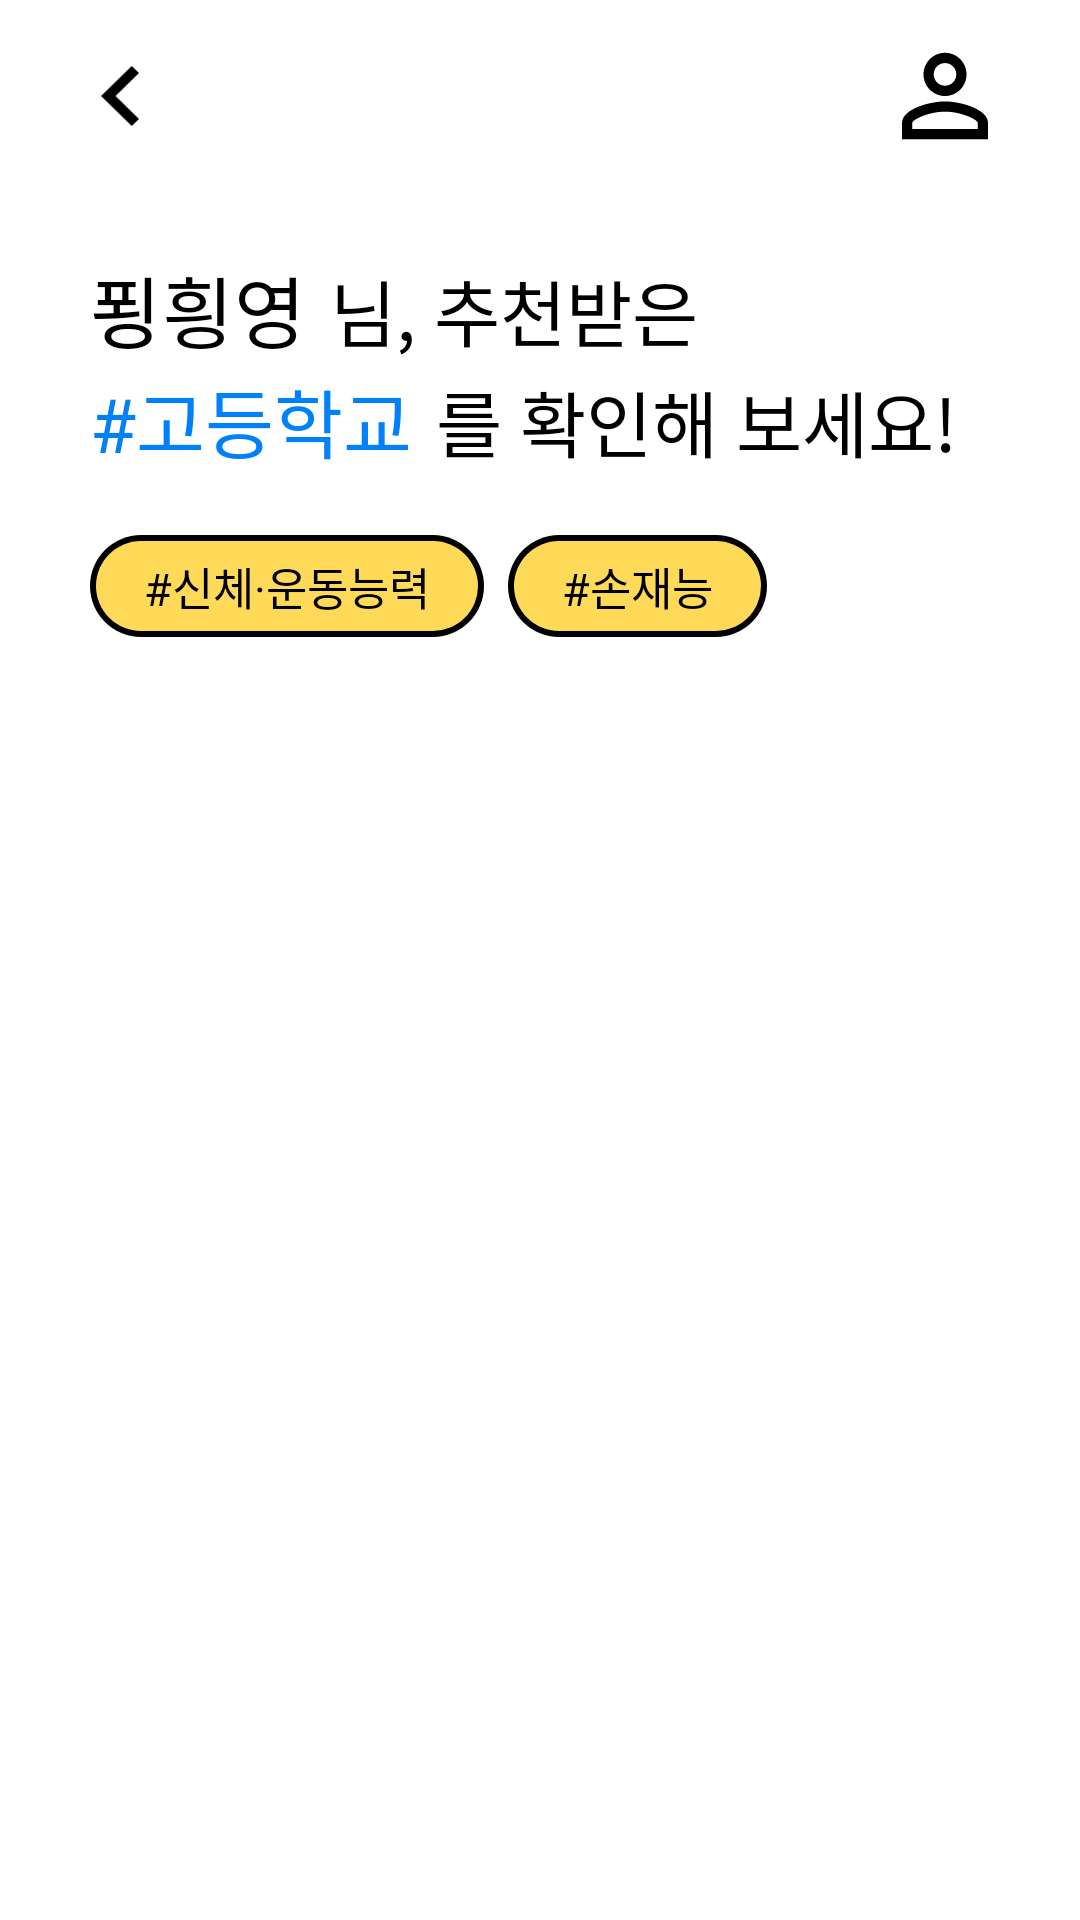

Where to tap for icons on this 1080x1920 app screen, as (x,y):
back arrow: (120,96)
